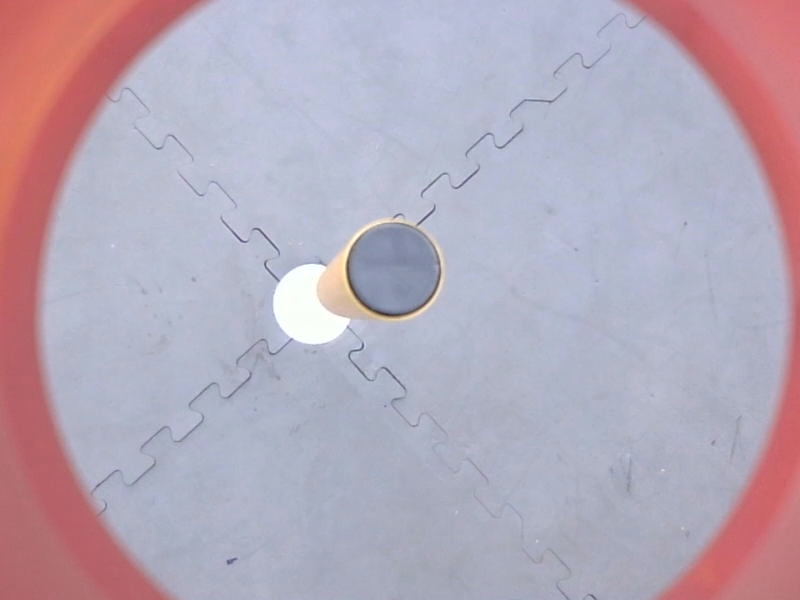tip: (339, 213, 451, 327)
